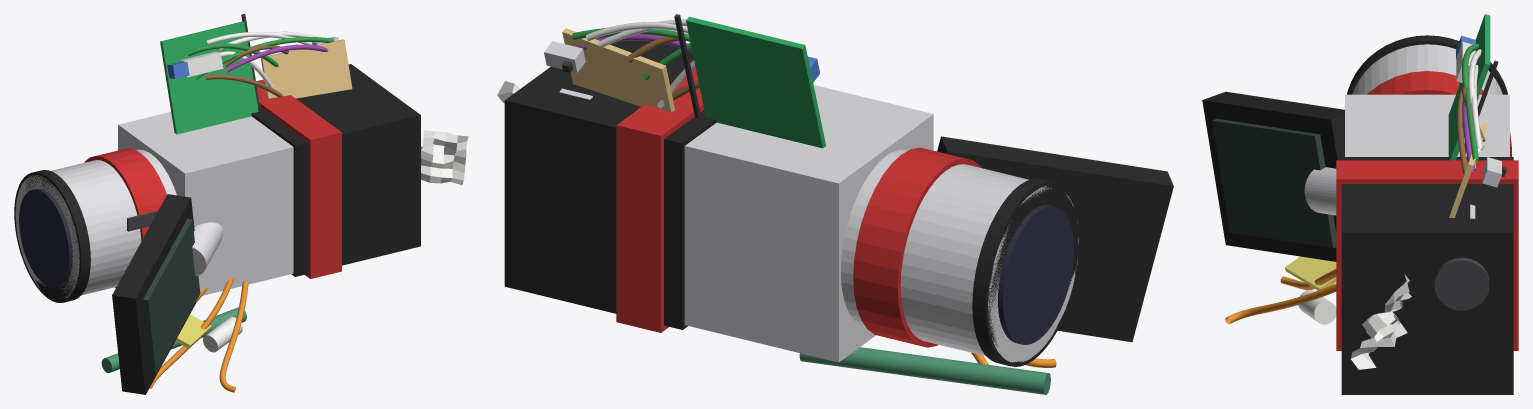
File: bent.glb
3 views of the same model, side by side, from view 1: azimuth 30°, elevation 25°; view 2: azimuth 150°, elevation 25°; view 3: azimuth 270°, elevation 25° (orthographic). The views are drawn at different scales.
Visible parts, largest first — view 1: Body_Mid, Body_Rear, Lens_Barrel, Tape_Red_Body, LCD_Panel, PCB_Breakout, LCD_Screen, Lens_Glass, Perfboard, Barrel_FrontCap, Tape_Red_Barrel, White_Ribbon (+12 smaller); view 2: Body_Mid, Body_Rear, Lens_Barrel, LCD_Panel, PCB_Breakout, Tape_Red_Body, Tape_Red_Barrel, Lens_Glass, Barrel_FrontCap, Green_Rod, Perfboard, Switch_0_Body (+1 smaller); view 3: Body_Rear, LCD_Screen, Body_Mid, LCD_Panel, Tape_Red_Body, Lens_Barrel, Rear_Detail, White_Ribbon, Tape_Red_Barrel, PCB_Breakout, Hinge_Knuckle, Barrel_FrontCap (+13 smaller).
Part boxes in pixels (x1,y1,x2,y2): Body_Mid: (118, 112, 293, 295); Body_Rear: (251, 64, 420, 276); Lens_Barrel: (15, 149, 176, 299); Tape_Red_Body: (257, 79, 341, 278); LCD_Panel: (112, 194, 195, 394); PCB_Breakout: (160, 21, 258, 134); LCD_Screen: (143, 219, 200, 374); Lens_Glass: (19, 188, 72, 287); Perfboard: (261, 39, 352, 98); Barrel_FrontCap: (14, 170, 90, 302); Tape_Red_Barrel: (84, 148, 166, 287); White_Ribbon: (421, 130, 468, 184); Body_Mid: (684, 85, 933, 362); Body_Rear: (504, 28, 716, 329); Lens_Barrel: (840, 149, 1078, 362); LCD_Panel: (937, 136, 1173, 342); PCB_Breakout: (686, 16, 825, 148); Tape_Red_Body: (616, 68, 704, 332); Tape_Red_Barrel: (853, 147, 981, 347); Lens_Glass: (998, 204, 1074, 344); Barrel_FrontCap: (972, 178, 1080, 366); Green_Rod: (799, 347, 1050, 394); Perfboard: (562, 28, 674, 112); Switch_0_Body: (544, 41, 585, 72); Body_Rear: (1341, 157, 1513, 394); LCD_Screen: (1212, 118, 1336, 248); Body_Mid: (1345, 94, 1509, 156); LCD_Panel: (1202, 91, 1344, 261); Tape_Red_Body: (1336, 160, 1518, 350); Lens_Barrel: (1352, 44, 1502, 94); Rear_Detail: (1434, 257, 1489, 310); White_Ribbon: (1351, 274, 1411, 369); Tape_Red_Barrel: (1367, 71, 1511, 156); PCB_Breakout: (1448, 14, 1490, 160); Hinge_Knuckle: (1304, 167, 1336, 215); Barrel_FrontCap: (1347, 35, 1507, 94).
Bounding box in the file's own units: 0.1724 × 0.1069 × 0.092.
